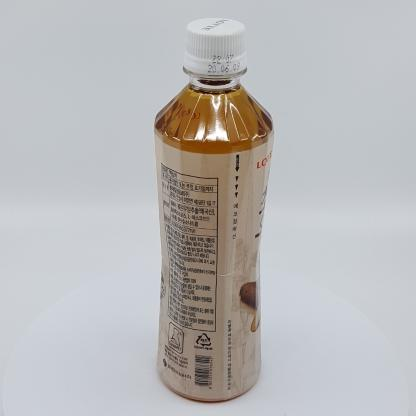----------500ML: (154, 18, 274, 402), (195, 355, 213, 389)
